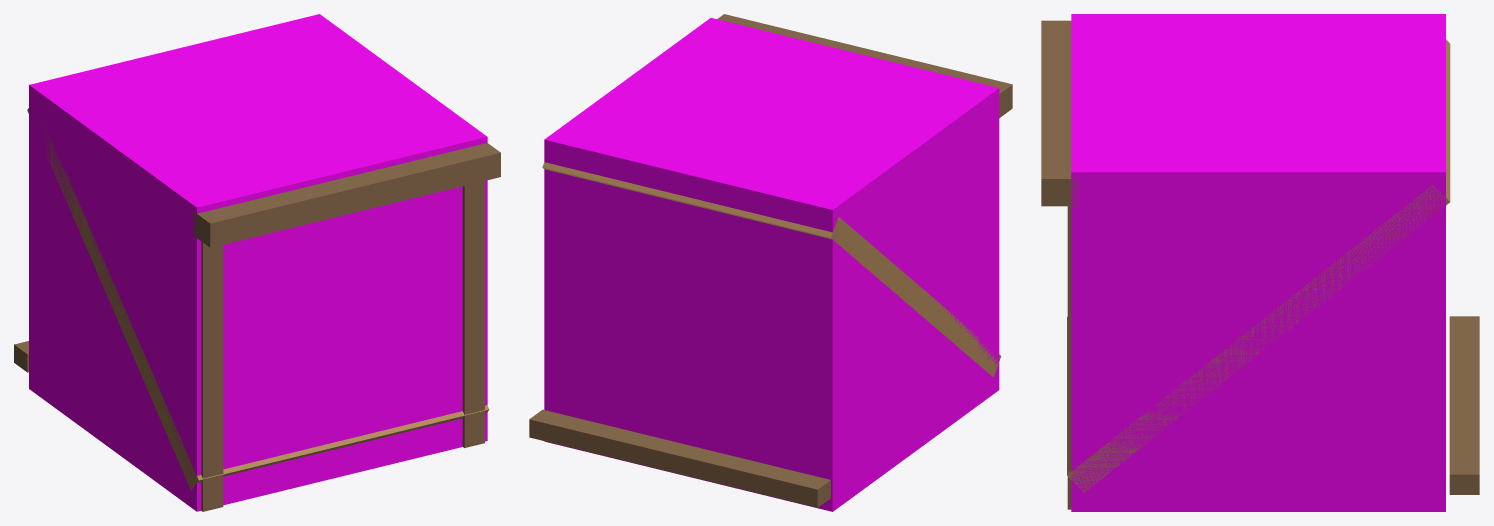
File: roof_shed.glb
3 views of the same model, side by side, from view 1: azimuth 30°, elevation 25°; view 2: azimuth 150°, elevation 25°; view 3: azimuth 270°, elevation 25° (orthographic). The views are drawn at different scales.
Parts seen in each view (by area): view 1: Col_main, M_b1, M_b0; view 2: Col_main, M_b1, M_b0; view 3: Col_main, M_b1, M_b0.
Boxes of the visible parts, <box> form: Col_main: <box>29,14,487,511</box>; M_b1: <box>14,143,500,511</box>; M_b0: <box>27,108,489,490</box>; Col_main: <box>544,18,999,511</box>; M_b1: <box>529,14,1012,507</box>; M_b0: <box>542,162,1001,377</box>; Col_main: <box>1071,14,1445,511</box>; M_b1: <box>1041,20,1479,509</box>; M_b0: <box>1067,39,1450,492</box>.
Bounding box in the file's own units: 2 × 2 × 2.34.
